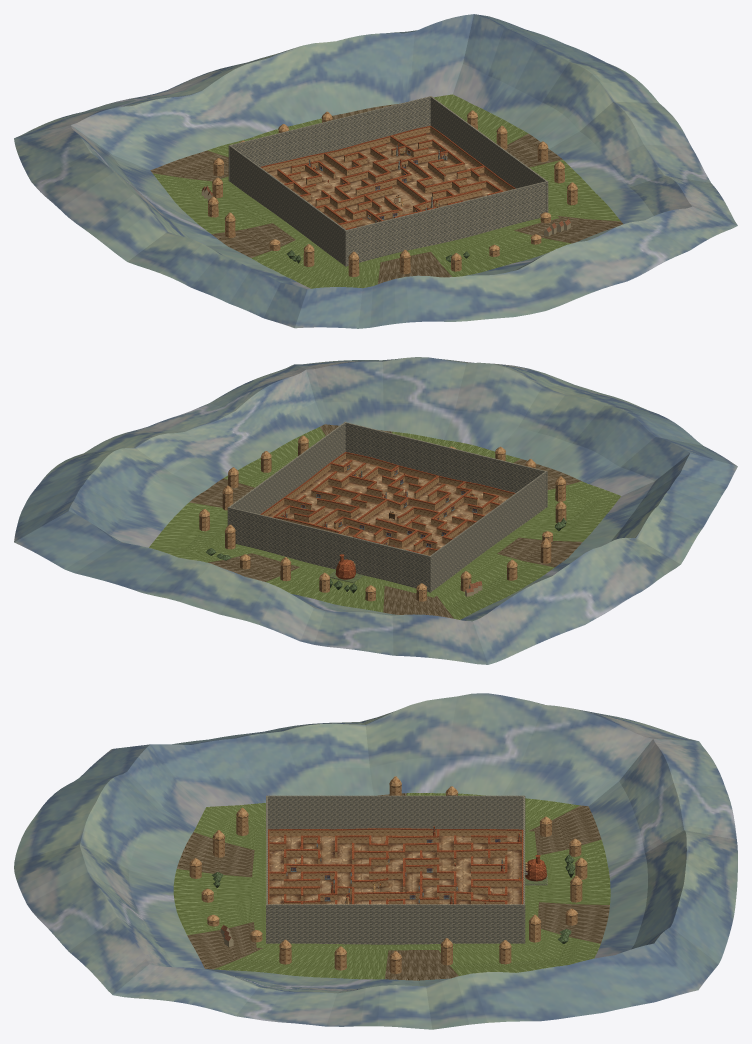
File: SupperSteps.fbx
3 views of the same model, one above another, from view 1: azimuth 30°, elevation 25°; view 2: azimuth 150°, elevation 25°; view 3: azimuth 270°, elevation 25° (orthographic). The views are drawn at different scales.
Parts seen in each view (by area): view 1: Surroundings, C_Solids, Rim, Terrain, Horizon, Set; view 2: Surroundings, C_Solids, Rim, Terrain, Horizon, Set; view 3: Surroundings, C_Solids, Rim, Terrain, Horizon, Set.
Part boxes in pixels (x1,y1,x2,y2): Surroundings: (14,14,737,328); C_Solids: (228,96,548,266); Rim: (260,125,515,229); Terrain: (267,132,508,227); Horizon: (208,110,577,277); Set: (291,133,471,222); Surroundings: (14,357,737,664); C_Solids: (227,422,547,592); Rim: (260,452,515,554); Terrain: (267,458,508,555); Horizon: (199,435,566,601); Set: (281,464,477,579); Surroundings: (14,693,737,1029); C_Solids: (266,795,525,944); Rim: (268,828,523,904); Terrain: (269,835,521,904); Horizon: (189,776,587,973); Set: (284,826,546,904).
Bounding box in the file's own units: 34625 × 4247 × 34043.
